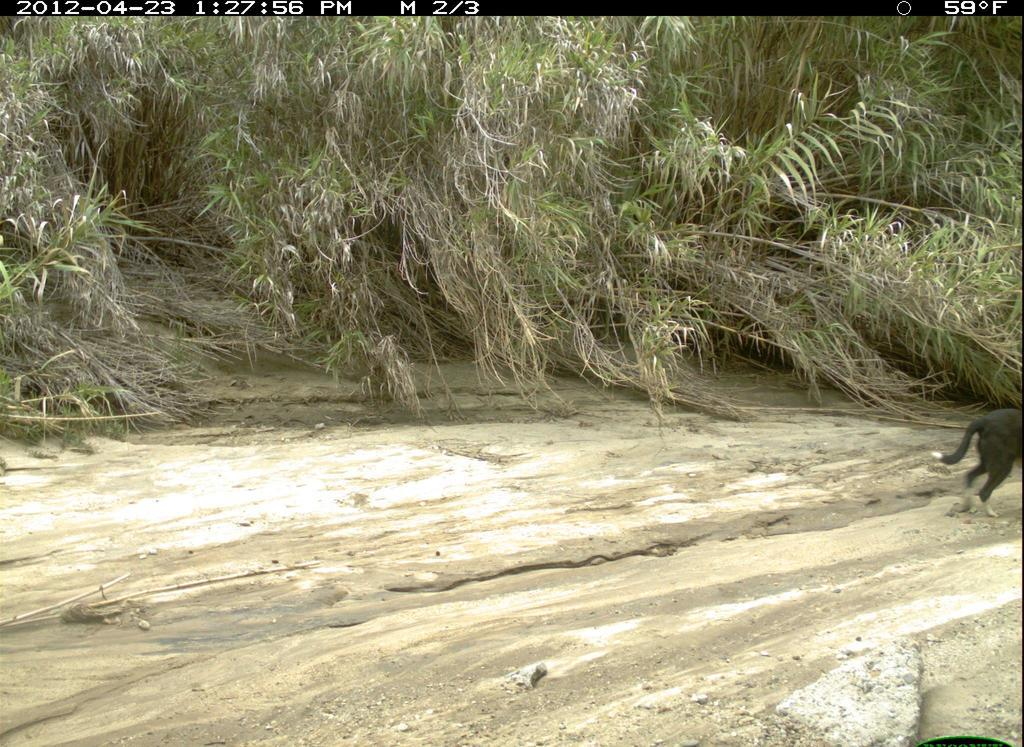dog: (930, 404, 1023, 521)
